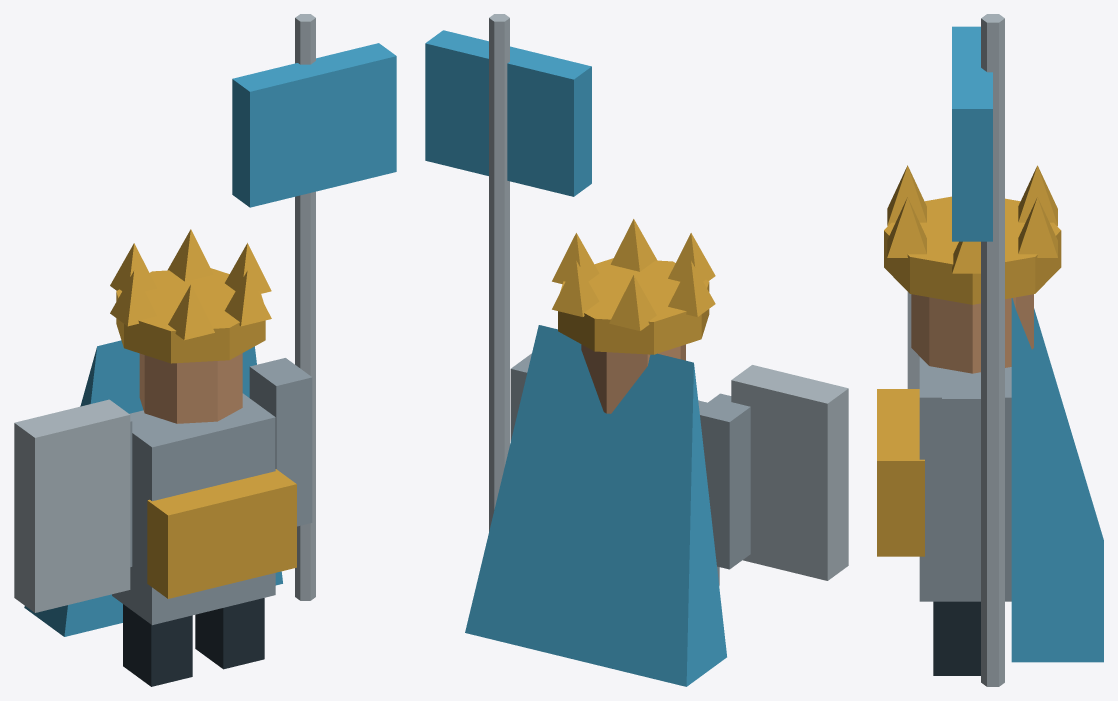
File: hero.obj
3 views of the same model, side by side, from view 1: azimuth 30°, elevation 25°; view 2: azimuth 150°, elevation 25°; view 3: azimuth 270°, elevation 25° (orthographic). The views are drawn at different scales.
Parts seen in each view (by area): view 1: hero; view 2: hero; view 3: hero.
Part boxes in pixels (<box>): hero: <box>14,14,396,686</box>; hero: <box>425,14,848,686</box>; hero: <box>877,14,1103,686</box>.
Size of the model in its own units: 1.48 by 2.25 by 0.665.
